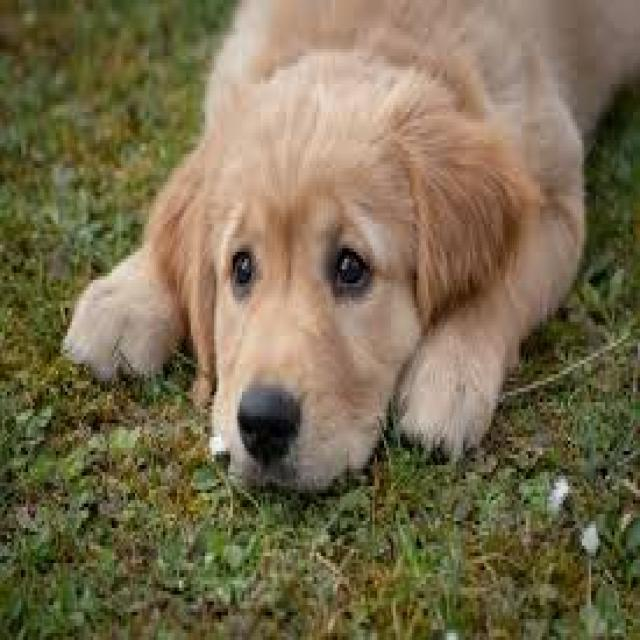dogs: (50, 0, 608, 502)
